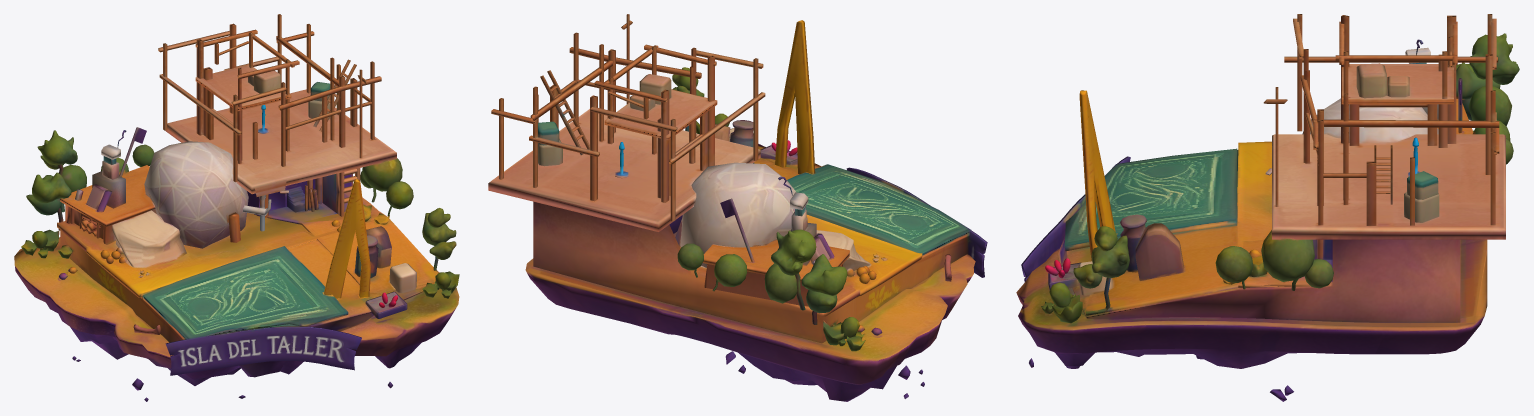
The model's file is ISLA-DEL-TALLER-v1.glb.
3 views of the same model, side by side, from view 1: azimuth 30°, elevation 25°; view 2: azimuth 150°, elevation 25°; view 3: azimuth 270°, elevation 25° (orthographic). The views are drawn at different scales.
Visible parts, largest first — view 1: tripo_node_c98ab119-0751-4830-b9a4-16de3df019c4; view 2: tripo_node_c98ab119-0751-4830-b9a4-16de3df019c4; view 3: tripo_node_c98ab119-0751-4830-b9a4-16de3df019c4.
Boxes of the visible parts, <box> form: tripo_node_c98ab119-0751-4830-b9a4-16de3df019c4: <box>14,14,459,401</box>; tripo_node_c98ab119-0751-4830-b9a4-16de3df019c4: <box>488,14,987,401</box>; tripo_node_c98ab119-0751-4830-b9a4-16de3df019c4: <box>1016,14,1519,401</box>.
Size of the model in its own units: 0.9995 by 0.8335 by 0.9917.
Materials: 1 (1 with a texture image).
